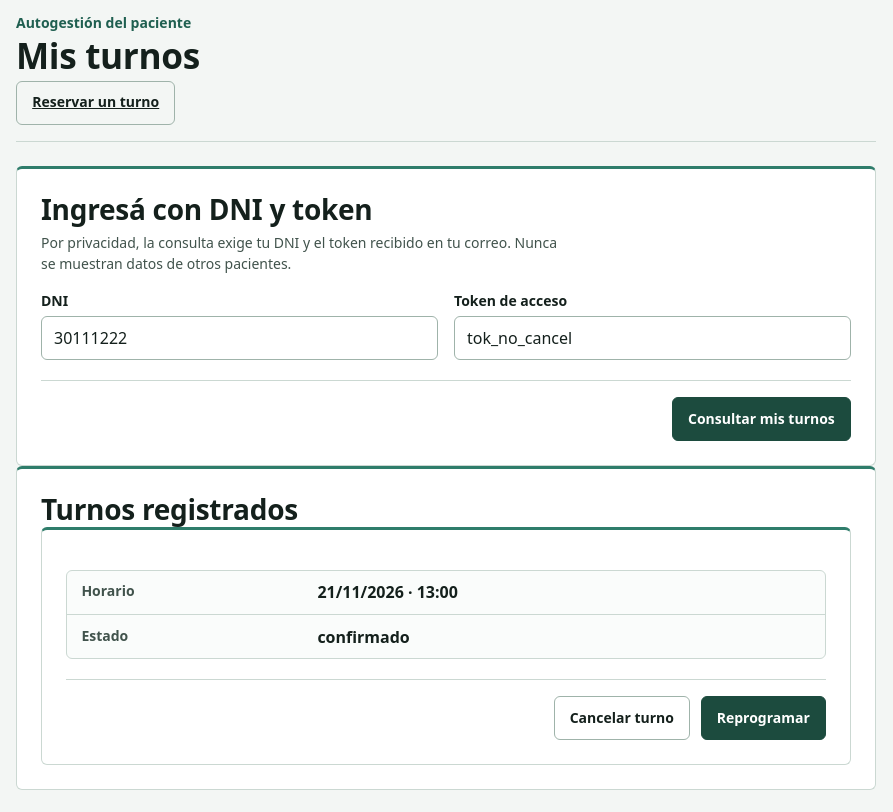
Test: MisTurnosPage › muestra error claro si un turno no admite cancelación sin filtrar datos ajenos
Step 1. Click the button "Cancelar turno" → [622, 718], box [554, 696, 690, 740]
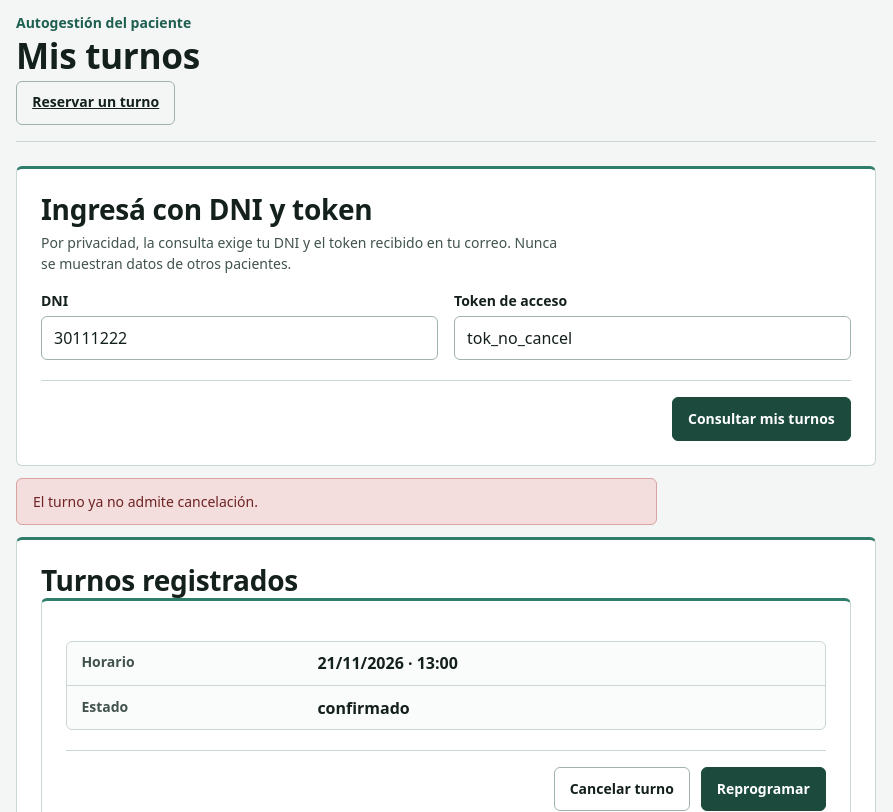
Check: the message reads "El turno ya no admite cancelación.", box [33, 492, 258, 511]
